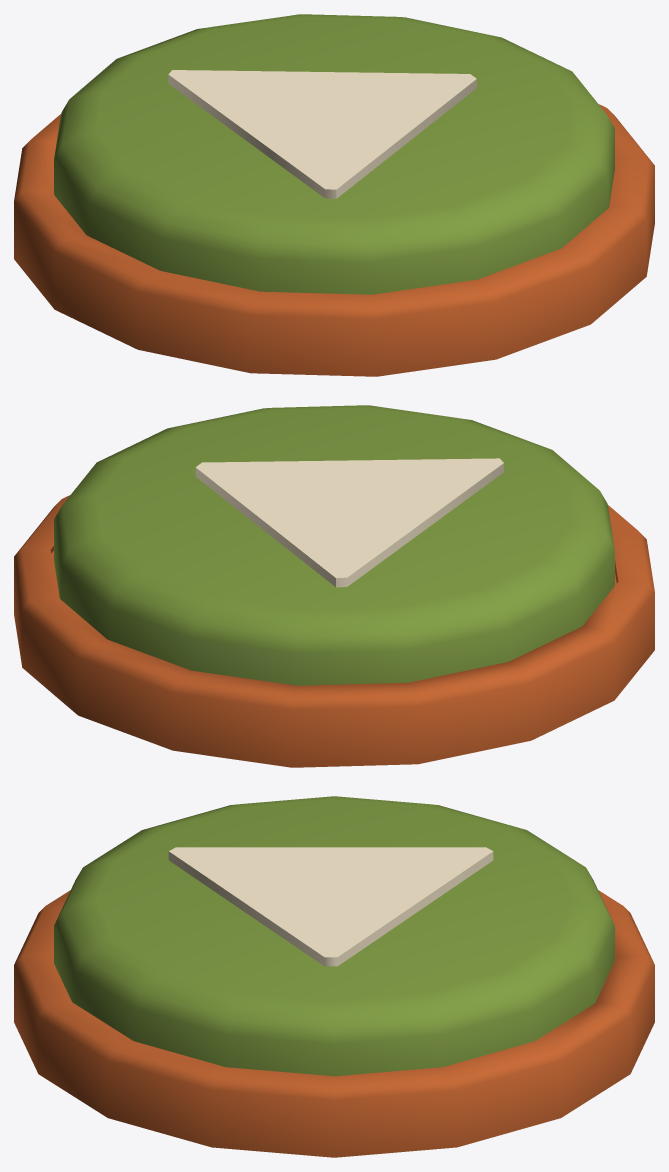
Rendered from PlayButton.fbx.
3 views of the same model, one above another, from view 1: azimuth 30°, elevation 25°; view 2: azimuth 150°, elevation 25°; view 3: azimuth 270°, elevation 25° (orthographic).
Visible parts, largest first — view 1: PlayButton, PlayButtonBase; view 2: PlayButton, PlayButtonBase; view 3: PlayButton, PlayButtonBase.
Boxes of the visible parts, box(x1,y1,x2,y2) form: PlayButton: box(54, 14, 614, 294); PlayButtonBase: box(14, 104, 654, 376); PlayButton: box(54, 405, 614, 685); PlayButtonBase: box(14, 495, 654, 767); PlayButton: box(54, 796, 614, 1076); PlayButtonBase: box(14, 890, 654, 1157).
Bounding box in the file's own units: 1.03 × 0.2335 × 1.03.
Materials: 1 (1 with a texture image).
